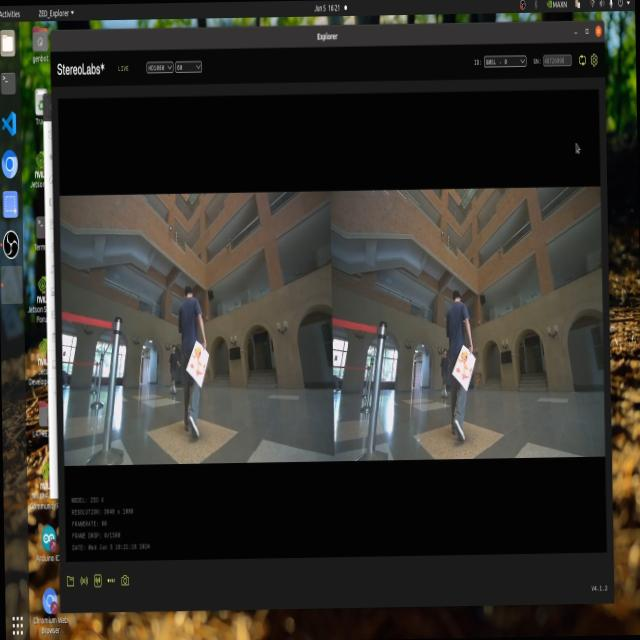red: (186, 338, 213, 383), (456, 344, 471, 389)
